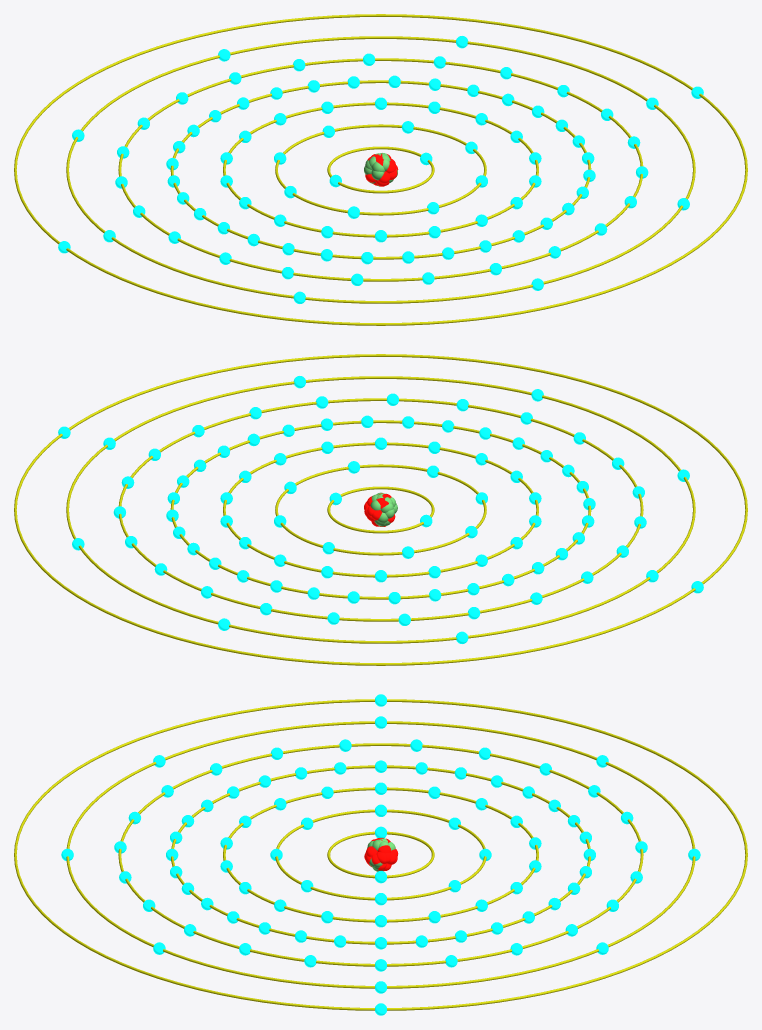
The model's file is atomo_93.glb.
3 renders of one model, top to bottom at view 1: azimuth 30°, elevation 25°; view 2: azimuth 150°, elevation 25°; view 3: azimuth 270°, elevation 25°, orthographic.
Parts seen in each view (by area): view 1: orbital_7, orbital_6, orbital_5, orbital_4, orbital_3, orbital_2, orbital_1; view 2: orbital_7, orbital_6, orbital_5, orbital_4, orbital_3, orbital_2, orbital_1; view 3: orbital_7, orbital_6, orbital_5, orbital_4, orbital_3, orbital_2, orbital_1.
Part boxes in pixels (<box>): orbital_7: <box>14,14,747,325</box>; orbital_6: <box>66,36,695,303</box>; orbital_5: <box>118,58,643,281</box>; orbital_4: <box>170,80,591,259</box>; orbital_3: <box>223,102,538,237</box>; orbital_2: <box>275,124,486,215</box>; orbital_1: <box>327,146,434,193</box>; orbital_7: <box>14,354,747,665</box>; orbital_6: <box>66,376,695,643</box>; orbital_5: <box>118,398,643,621</box>; orbital_4: <box>170,420,591,599</box>; orbital_3: <box>223,442,538,577</box>; orbital_2: <box>275,464,486,555</box>; orbital_1: <box>327,486,434,533</box>; orbital_7: <box>14,699,747,1010</box>; orbital_6: <box>66,721,695,988</box>; orbital_5: <box>118,743,643,966</box>; orbital_4: <box>171,765,590,944</box>; orbital_3: <box>223,787,538,922</box>; orbital_2: <box>275,809,486,900</box>; orbital_1: <box>327,831,434,878</box>.
Bounding box in the file's own units: 21.36 × 1 × 21.08.
